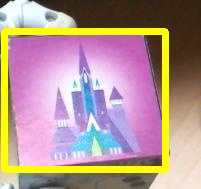Castle4: (4, 31, 165, 169)
